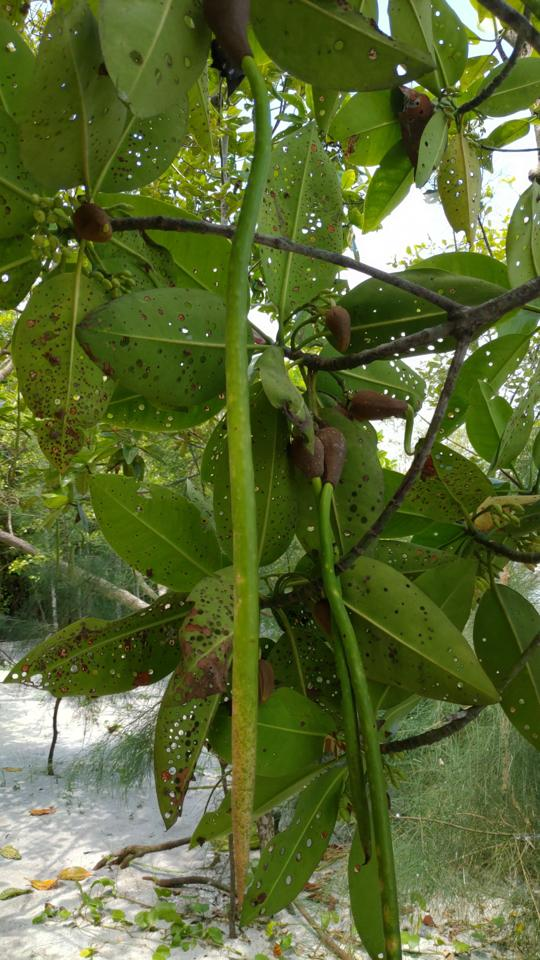mentah: (180, 1, 282, 934), (294, 399, 422, 958)
